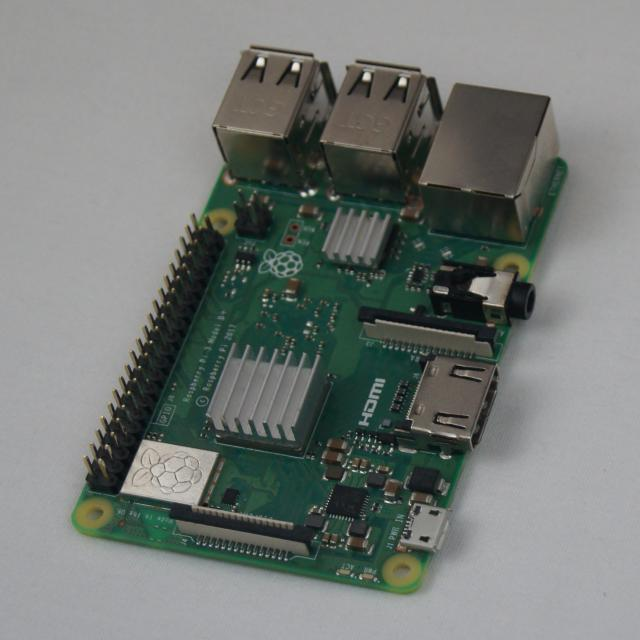Raspberry Pi 3 B-: (73, 47, 568, 594)
